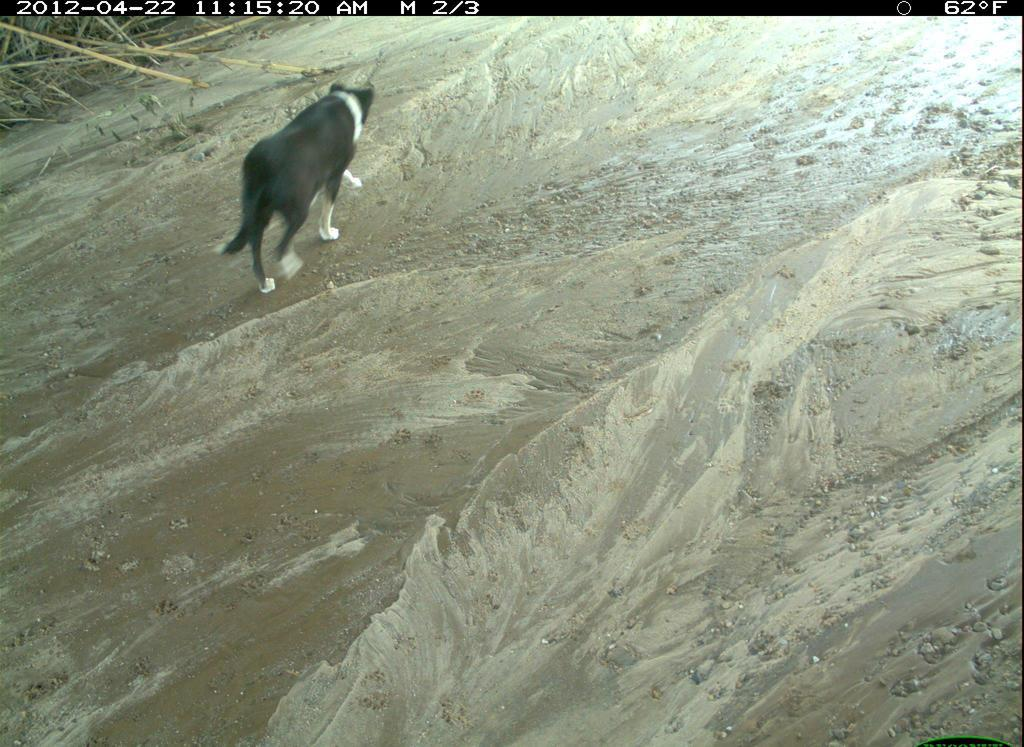dog: (416, 157, 767, 597)
